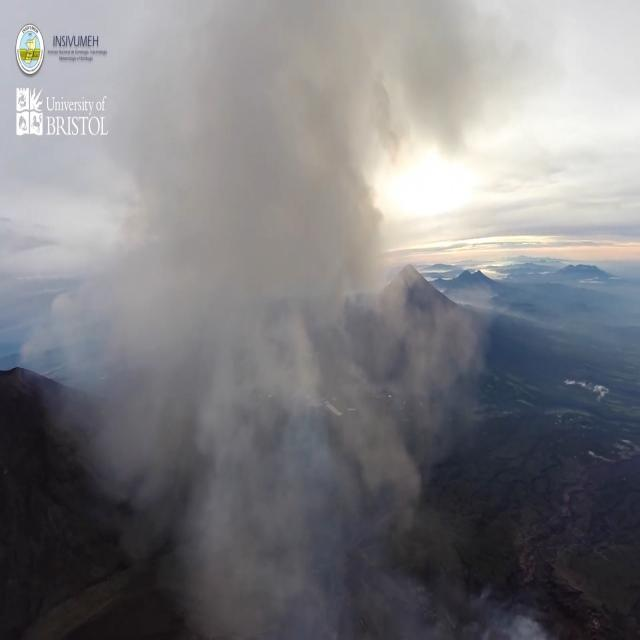Plume: (91, 1, 518, 640)
